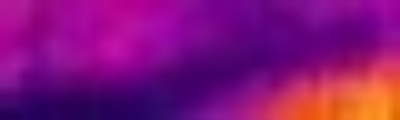Shadow: (168, 1, 400, 65), (1, 64, 265, 120)
